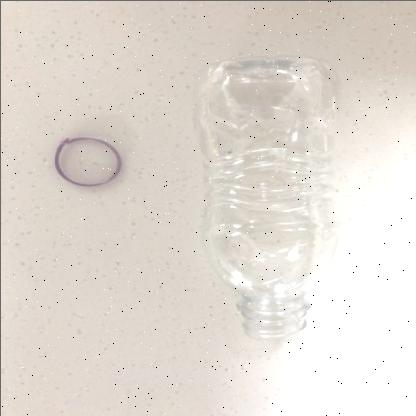Plastic Bottle: (195, 56, 336, 341)
